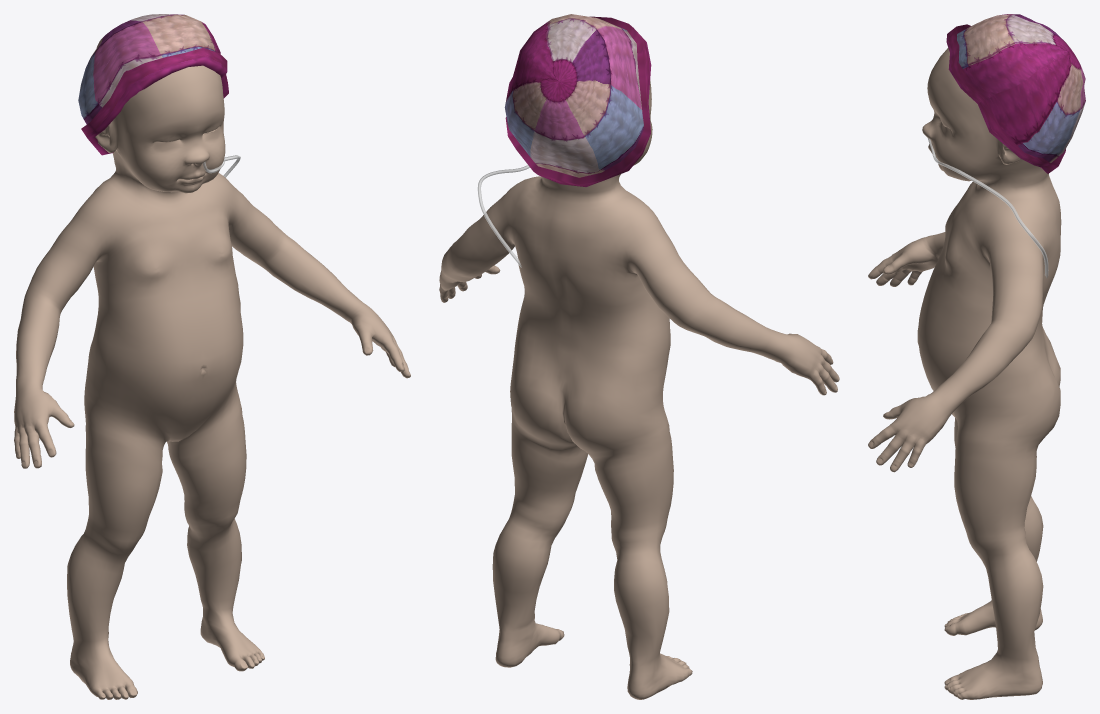
The model's file is baby_with_tubes.fbx.
The picture shows the model from 3 angles, left to right: view 1: azimuth 30°, elevation 25°; view 2: azimuth 150°, elevation 25°; view 3: azimuth 270°, elevation 25°; orthographic projection.
Parts seen in each view (by area): view 1: baby_to_animate:baby:base_obj, baby_to_animate:hat; view 2: baby_to_animate:baby:base_obj, baby_to_animate:hat; view 3: baby_to_animate:baby:base_obj, baby_to_animate:hat, tube.
Boxes of the visible parts, x1,y1,x2,y2 form: baby_to_animate:baby:base_obj: (14,65,410,699); baby_to_animate:hat: (78,14,228,155); baby_to_animate:baby:base_obj: (439,81,839,699); baby_to_animate:hat: (504,14,651,186); baby_to_animate:baby:base_obj: (868,48,1061,699); baby_to_animate:hat: (946,14,1085,173); tube: (928,138,1048,277).
Bounding box in the file's own units: 14.71 × 23.52 × 7.22.
3 materials, 1 textured.
